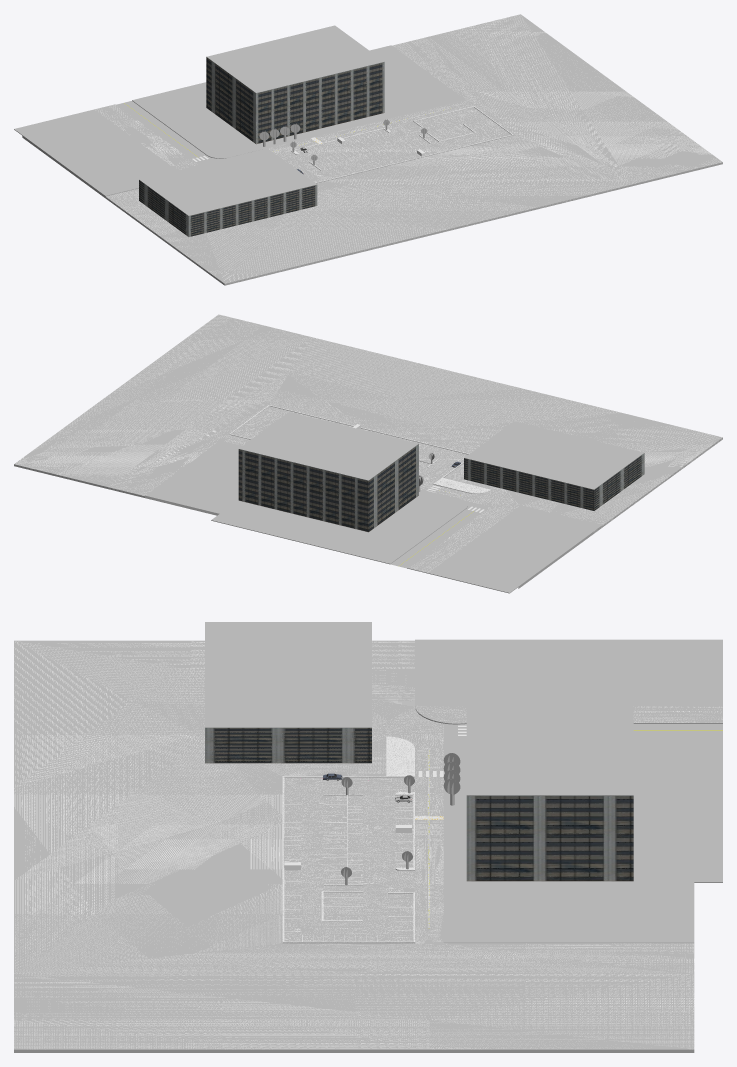
The model's file is parking_lot.dae.
3 views of the same model, one above another, from view 1: azimuth 30°, elevation 25°; view 2: azimuth 150°, elevation 25°; view 3: azimuth 270°, elevation 25° (orthographic). The views are drawn at different scales.
Parts seen in each view (by area): view 1: SketchUp (×3), skp6 (×4); view 2: SketchUp (×4), skp6 (×6); view 3: SketchUp (×5), skp6 (×4).
Boxes of the visible parts, bbox=[...] form: SketchUp (×3): bbox=[14, 14, 722, 285]; skp6 (×4): bbox=[139, 25, 384, 236]; SketchUp (×4): bbox=[14, 314, 722, 593]; skp6 (×6): bbox=[238, 412, 644, 531]; SketchUp (×5): bbox=[14, 639, 722, 1052]; skp6 (×4): bbox=[205, 622, 633, 881].
Bounding box in the file's own units: 10640 × 7794 × 1095.
